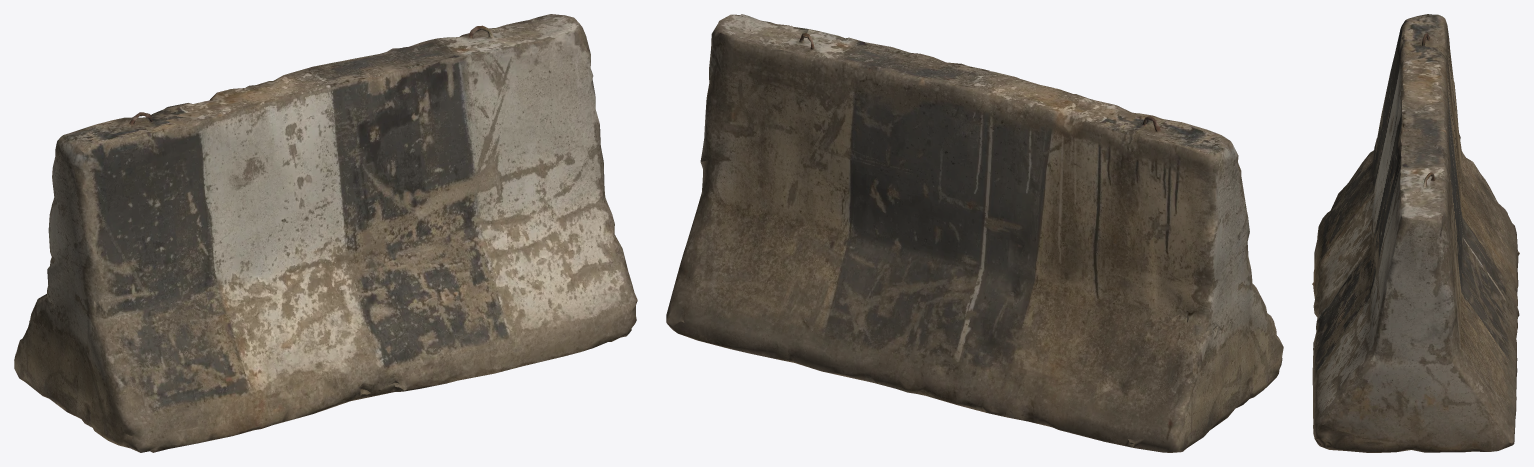
Rendered from barrier_concrete.glb.
3 views of the same model, side by side, from view 1: azimuth 30°, elevation 25°; view 2: azimuth 150°, elevation 25°; view 3: azimuth 270°, elevation 25° (orthographic). The views are drawn at different scales.
Parts seen in each view (by area): view 1: barrier_concrete; view 2: barrier_concrete; view 3: barrier_concrete.
Boxes of the visible parts, bbox=[...] form: barrier_concrete: bbox=[14, 14, 637, 452]; barrier_concrete: bbox=[666, 14, 1283, 452]; barrier_concrete: bbox=[1312, 14, 1519, 452].
Bounding box in the file's own units: 1.54 × 0.8293 × 0.6387.
Materials: 1 (1 with a texture image).
